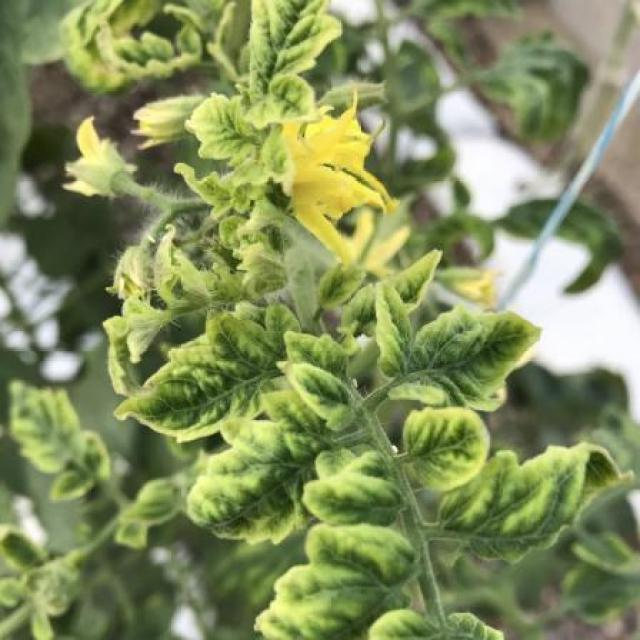Yellow Leaf Curl Virus: (428, 439, 636, 564), (116, 314, 284, 442), (260, 514, 419, 640), (192, 414, 324, 549), (392, 313, 544, 413), (402, 393, 492, 487)
